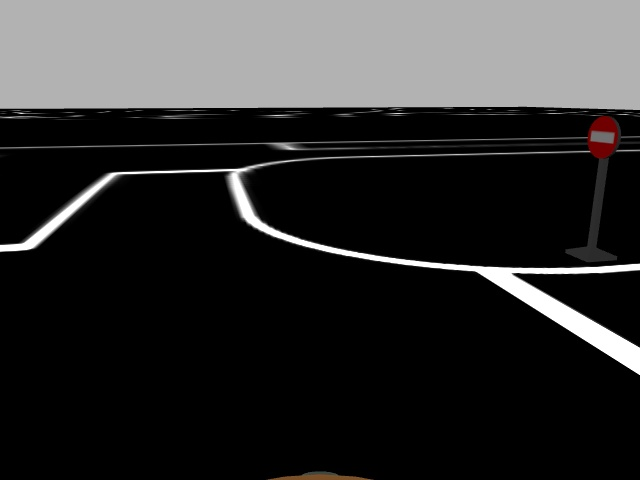prohibited: (585, 115, 624, 161)
